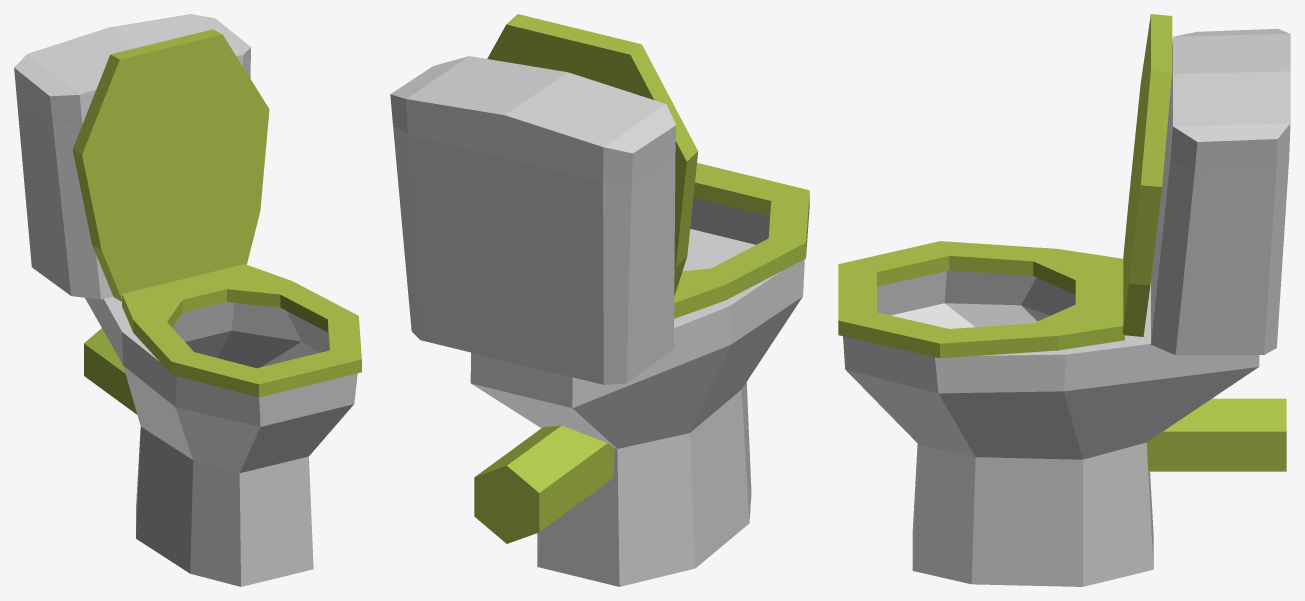
Rendered from Toilet.fbx.
3 renders of one model, left to right at view 1: azimuth 30°, elevation 25°; view 2: azimuth 150°, elevation 25°; view 3: azimuth 270°, elevation 25°, orthographic. The views are drawn at different scales.
Parts seen in each view (by area): view 1: toilet; view 2: toilet; view 3: toilet.
Part boxes in pixels (x1=…): toilet: x1=14, y1=14, x2=361, y2=586; toilet: x1=390, y1=14, x2=809, y2=586; toilet: x1=838, y1=14, x2=1290, y2=586.
Bounding box in the file's own units: 0.4067 × 0.8753 × 0.7046.
